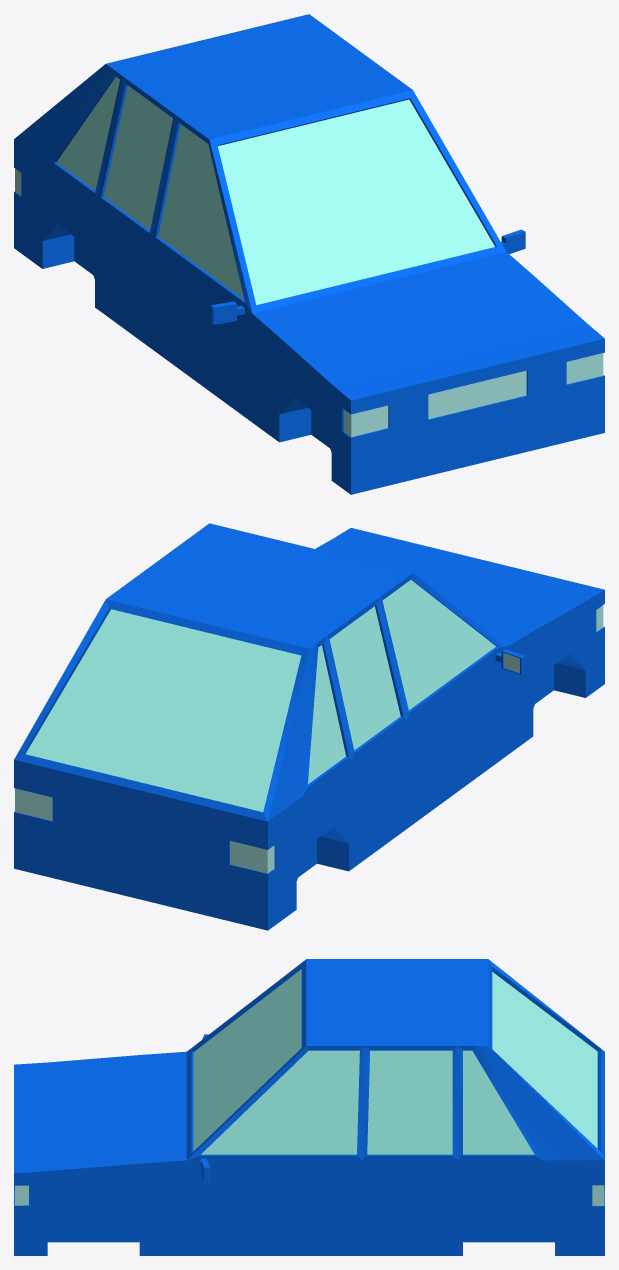
Rendered from car1chassis.obj.
The picture shows the model from 3 angles, top to bottom: view 1: azimuth 30°, elevation 25°; view 2: azimuth 150°, elevation 25°; view 3: azimuth 270°, elevation 25°; orthographic projection. The views are drawn at different scales.
Parts seen in each view (by area): view 1: Car_Car1_Cube.001; view 2: Car_Car1_Cube.001; view 3: Car_Car1_Cube.001.
Boxes of the visible parts, left/top/right/bottom form: Car_Car1_Cube.001: left=14, top=14, right=604, bottom=494; Car_Car1_Cube.001: left=14, top=523, right=604, bottom=930; Car_Car1_Cube.001: left=14, top=959, right=604, bottom=1255.
Size of the model in its own units: 2.46 by 1.71 by 4.6.
